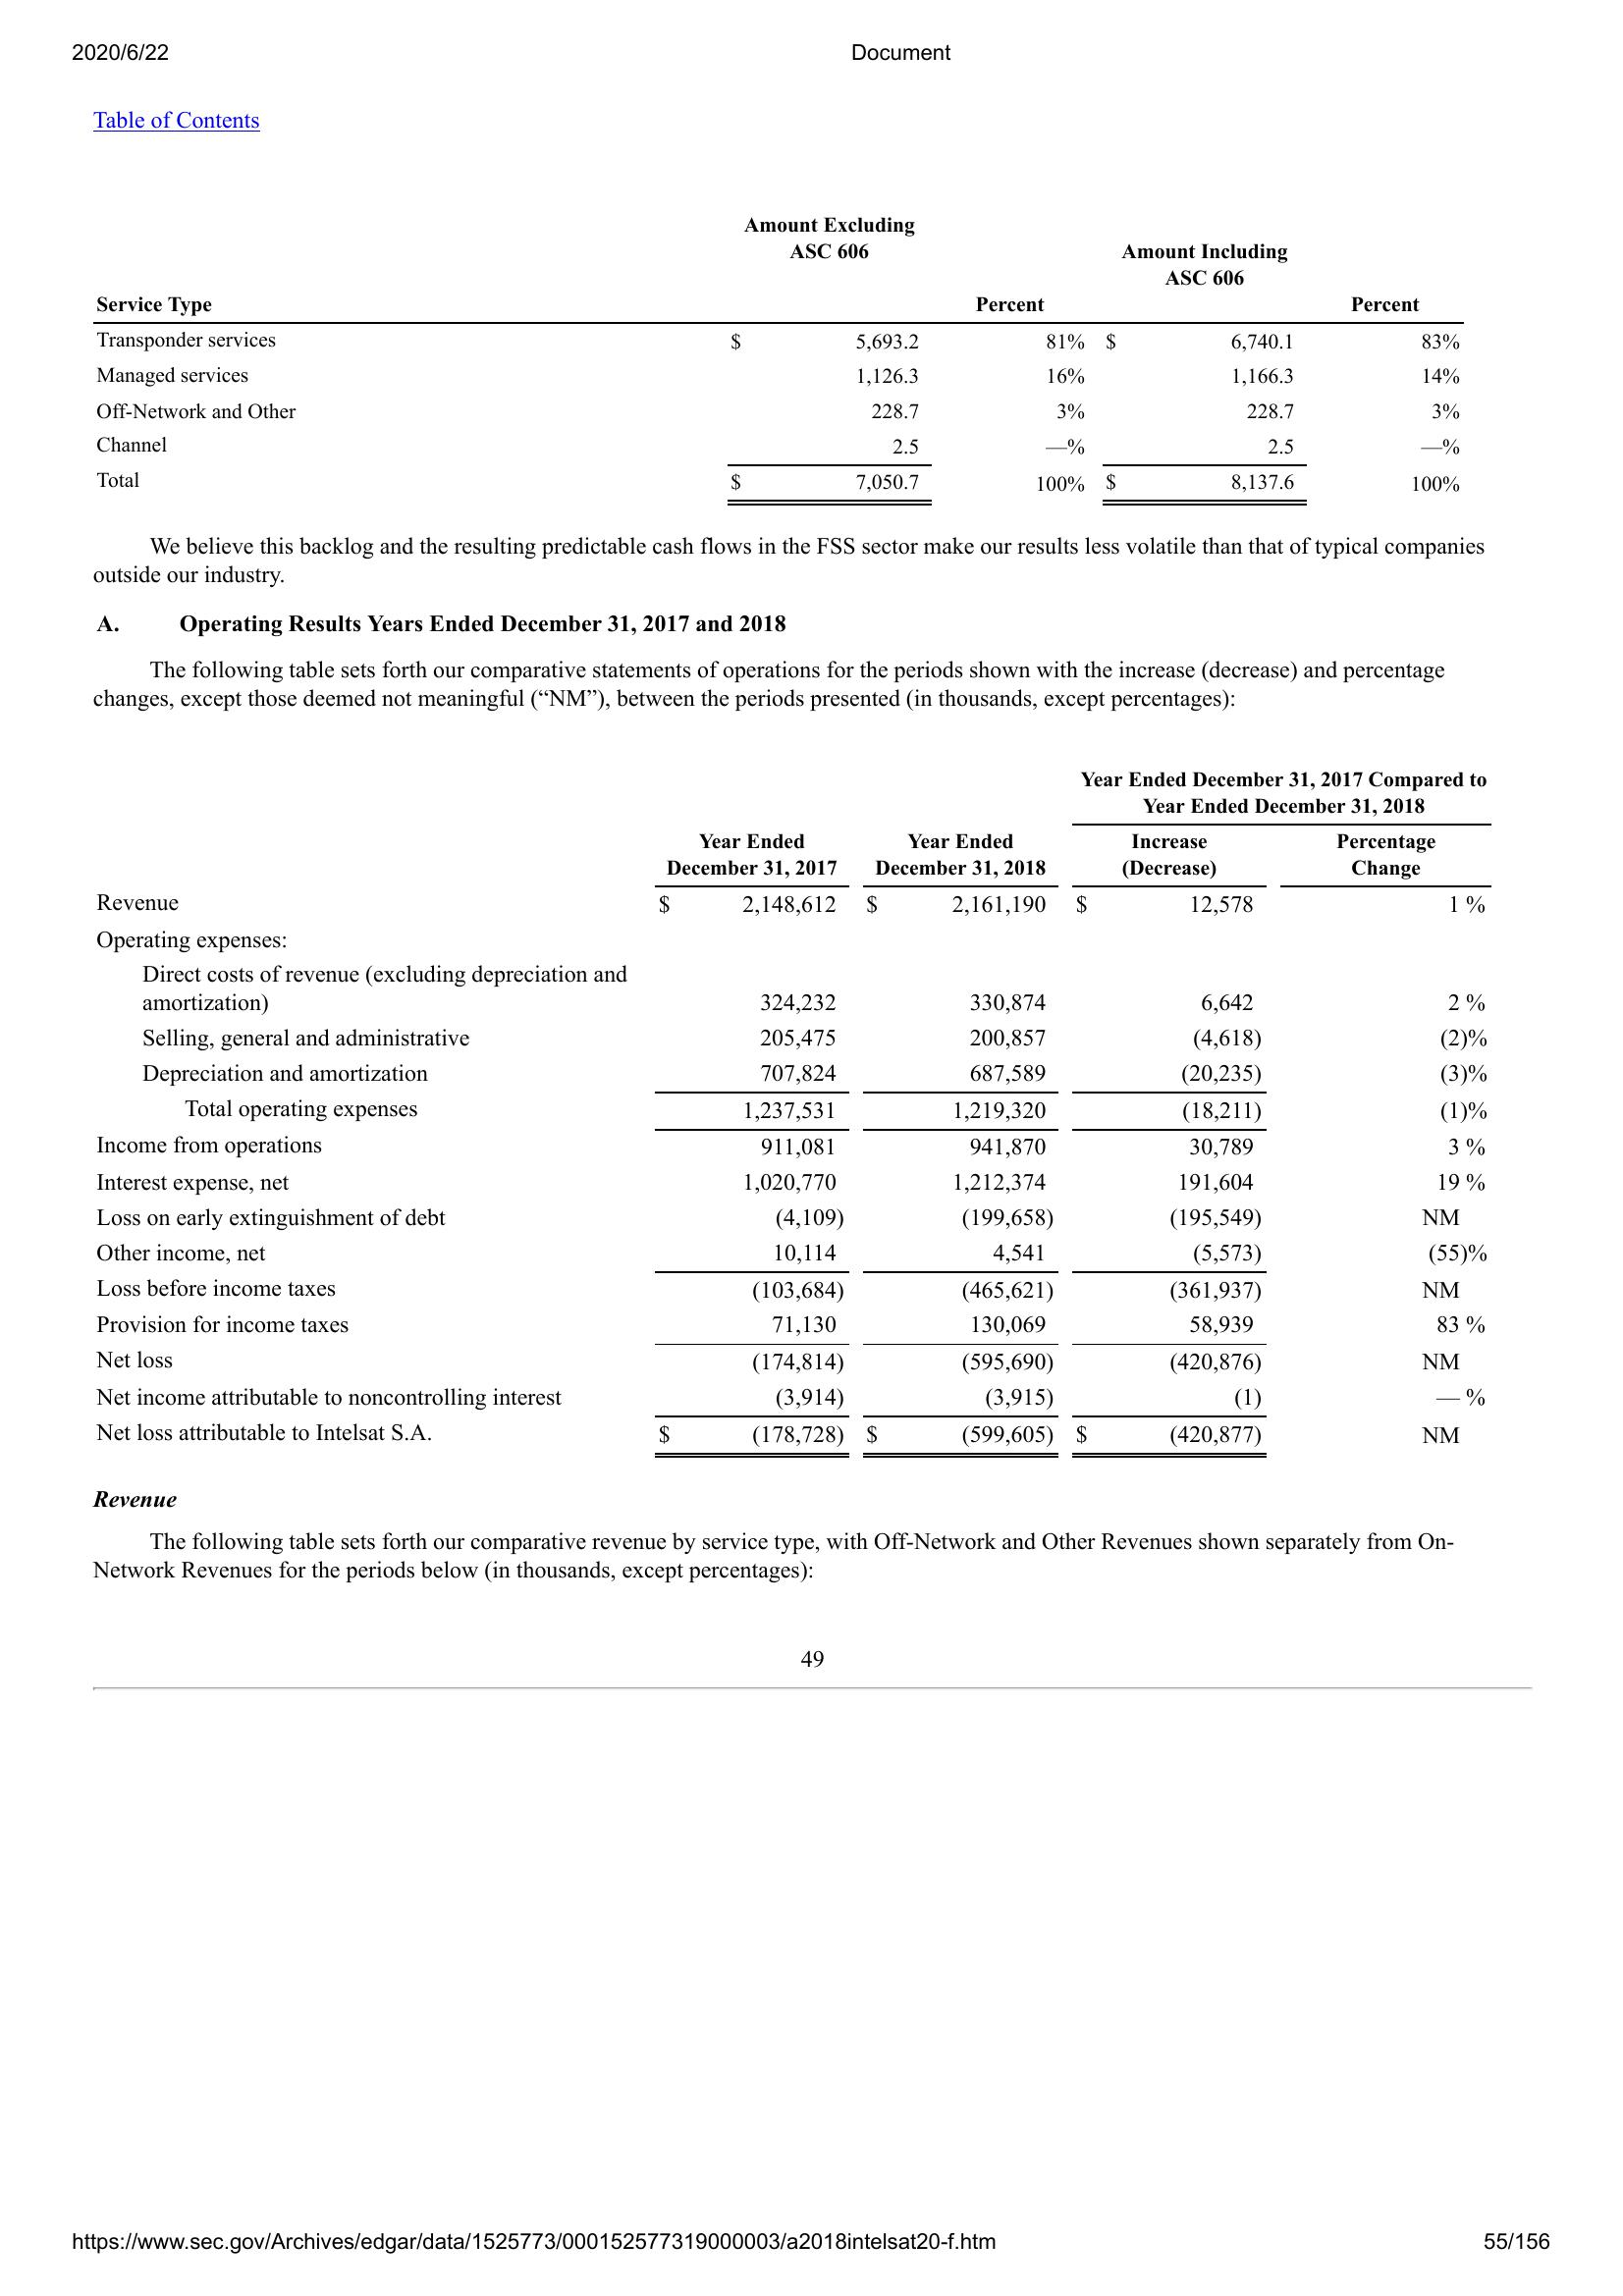table: (84, 755, 1504, 1466), (90, 214, 1474, 513)
